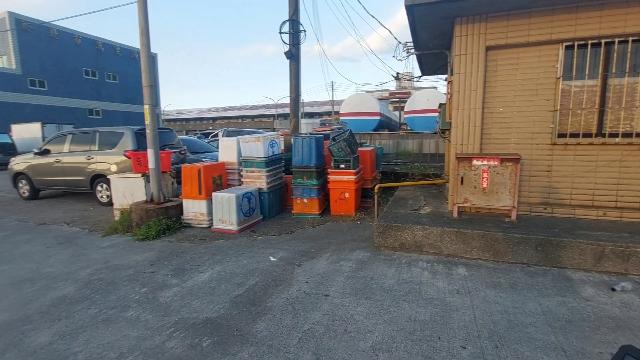pollute: (180, 129, 384, 232), (105, 152, 151, 220), (162, 152, 178, 196)
